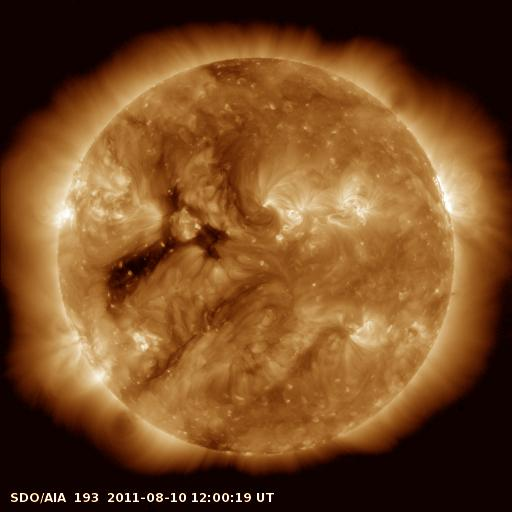coronal_hole: (107, 236, 172, 306), (194, 220, 233, 261)
